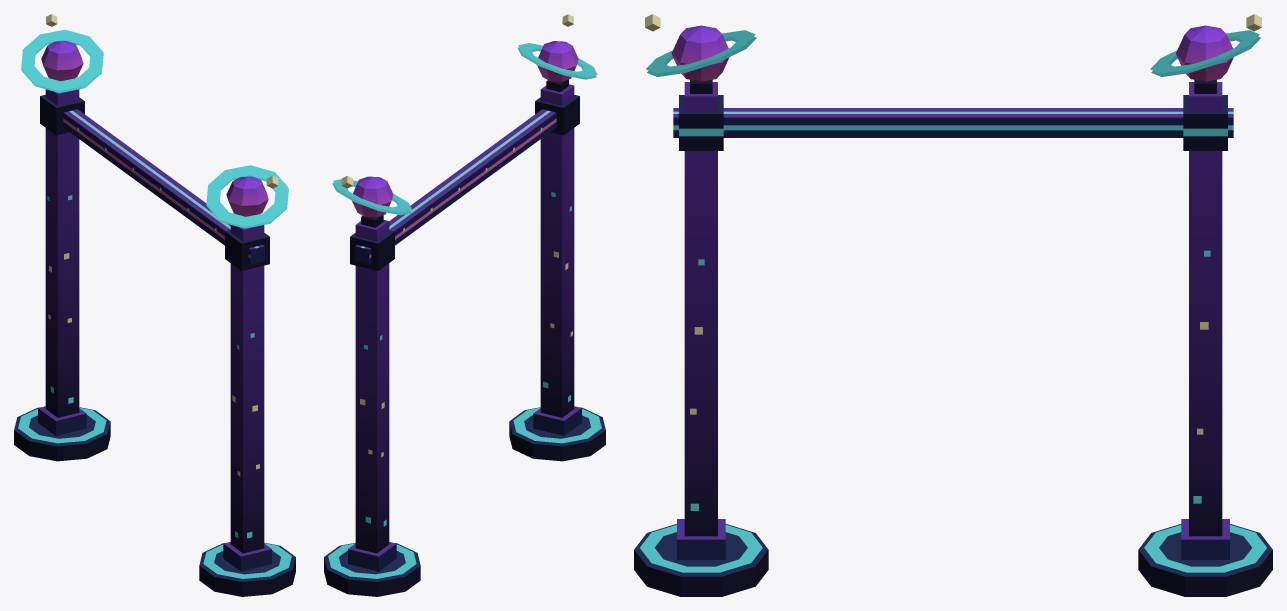
File: bar_cosmic.glb
The picture shows the model from 3 angles, left to right: view 1: azimuth 30°, elevation 25°; view 2: azimuth 150°, elevation 25°; view 3: azimuth 270°, elevation 25°; orthographic projection. The views are drawn at different scales.
Parts seen in each view (by area): view 1: bar_cosmic; view 2: bar_cosmic; view 3: bar_cosmic.
Boxes of the visible parts, x1,y1,x2,y2 form: bar_cosmic: [14, 14, 295, 596]; bar_cosmic: [324, 14, 605, 596]; bar_cosmic: [634, 14, 1272, 596].
Bounding box in the file's own units: 0.6848 × 3.31 × 3.42.
